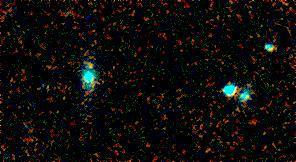star: (76, 51, 106, 81)
